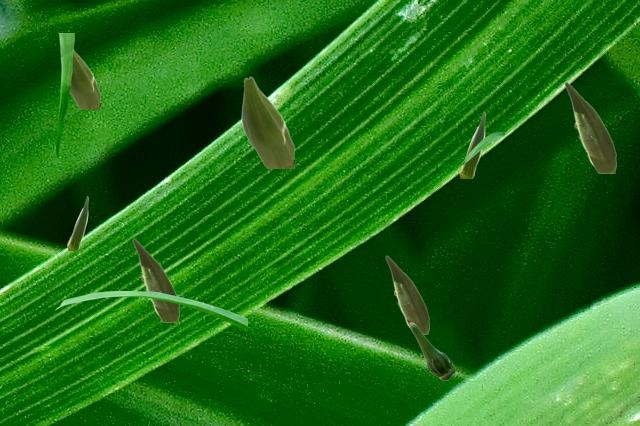okra: (241, 76, 293, 167), (564, 81, 615, 172), (132, 238, 178, 321), (385, 255, 428, 333), (409, 322, 454, 379), (70, 49, 99, 108), (459, 111, 484, 177), (67, 196, 87, 249)
